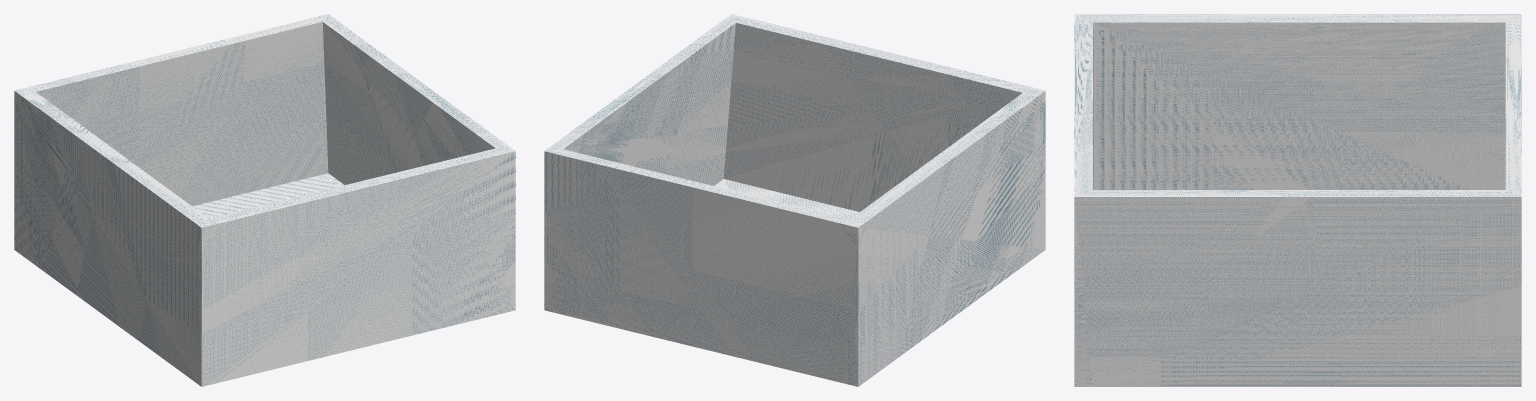
3 renders of one model, left to right at view 1: azimuth 30°, elevation 25°; view 2: azimuth 150°, elevation 25°; view 3: azimuth 270°, elevation 25°, orthographic. The views are drawn at different scales.
Visible parts, largest first — view 1: SketchUp; view 2: SketchUp; view 3: SketchUp.
Part boxes in pixels (bbox=[...]): SketchUp: bbox=[14, 14, 515, 386]; SketchUp: bbox=[544, 14, 1045, 386]; SketchUp: bbox=[1074, 14, 1521, 386].
Bounding box in the file's own units: 11.81 × 12.2 × 5.72.
